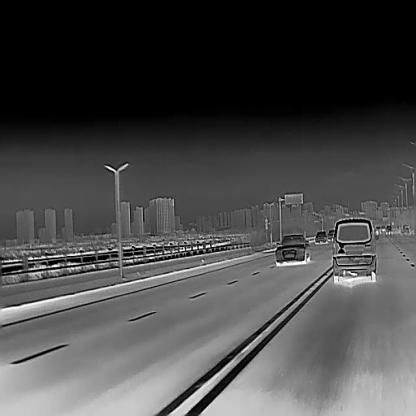car: (331, 217, 378, 282), (274, 231, 310, 265), (314, 230, 328, 244), (326, 228, 334, 242), (385, 224, 392, 235), (375, 226, 382, 235)
